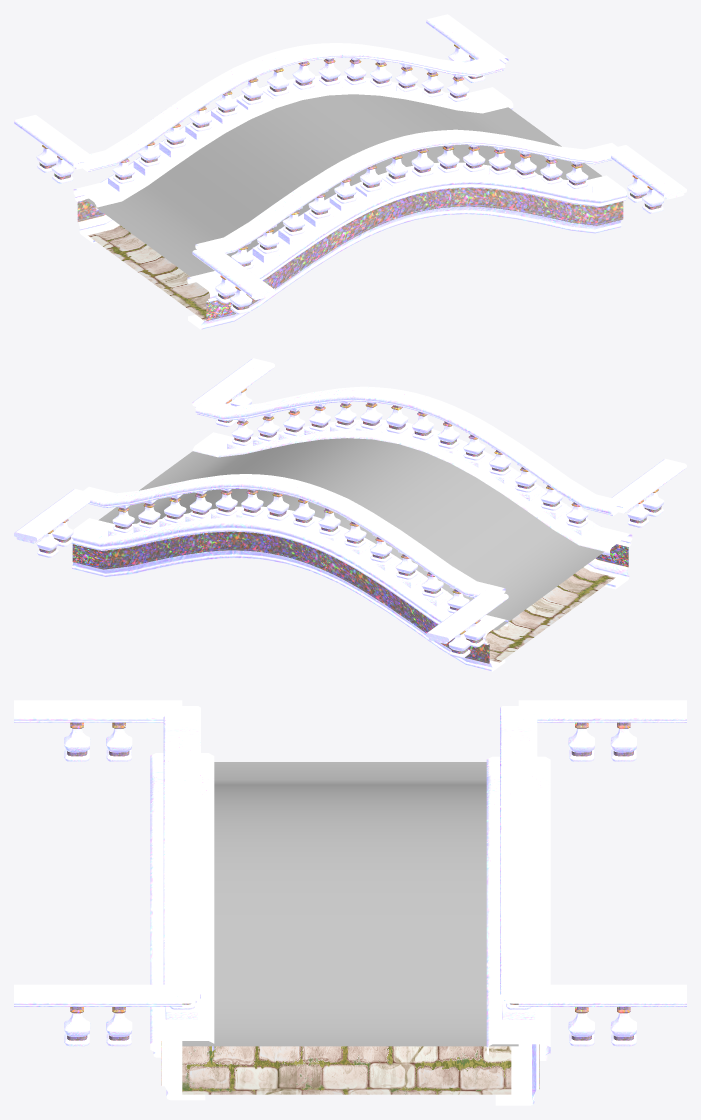
Rendered from shallow_bridge_SM.fbx.
The picture shows the model from 3 angles, top to bottom: view 1: azimuth 30°, elevation 25°; view 2: azimuth 150°, elevation 25°; view 3: azimuth 270°, elevation 25°; orthographic projection. The views are drawn at different scales.
Visible parts, largest first — view 1: shallow_bridge_SM_LOD0; view 2: shallow_bridge_SM_LOD0; view 3: shallow_bridge_SM_LOD0.
Part boxes in pixels (x1,y1,x2,y2): shallow_bridge_SM_LOD0: [14, 14, 686, 329]; shallow_bridge_SM_LOD0: [14, 358, 686, 671]; shallow_bridge_SM_LOD0: [14, 700, 686, 1105].
Bounding box in the file's own units: 1081 × 1024 × 319.
